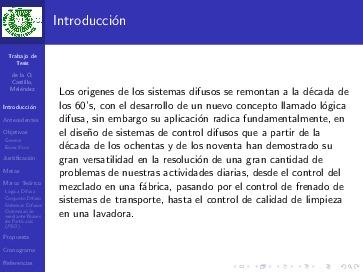paragraph: (51, 74, 359, 223)
title: (50, 10, 133, 33)
